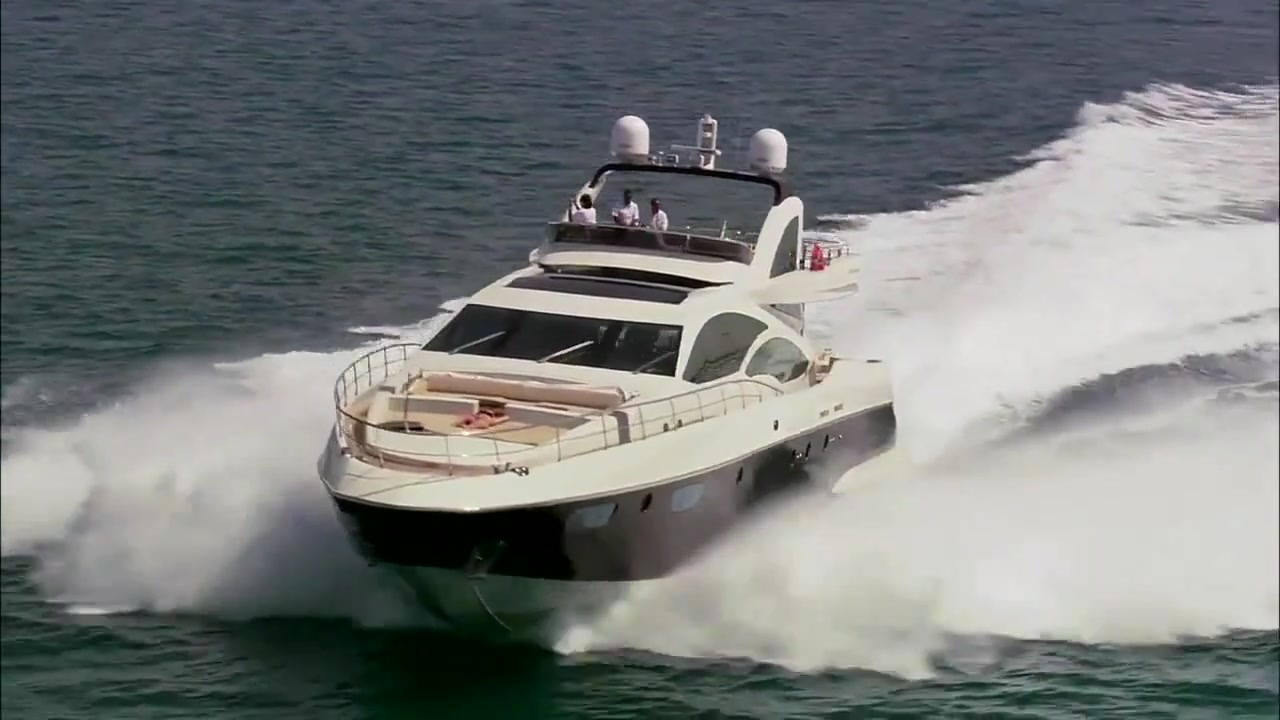boat: (316, 106, 905, 647)
